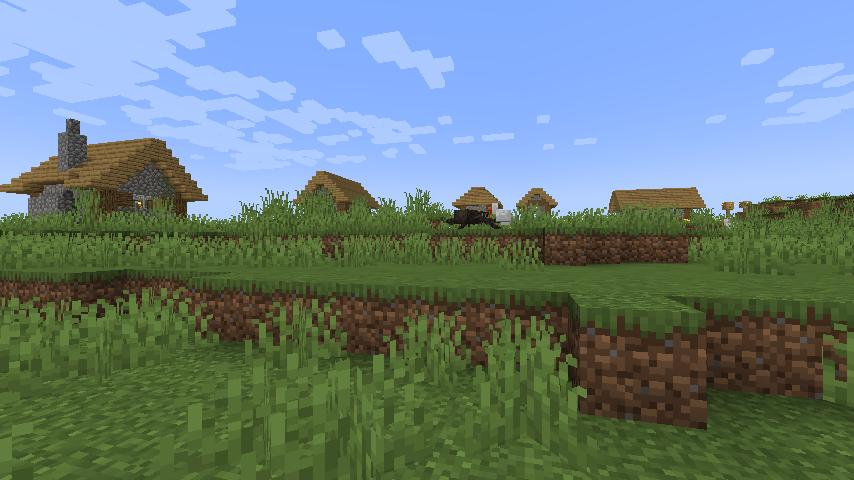spider: (449, 209, 497, 230)
